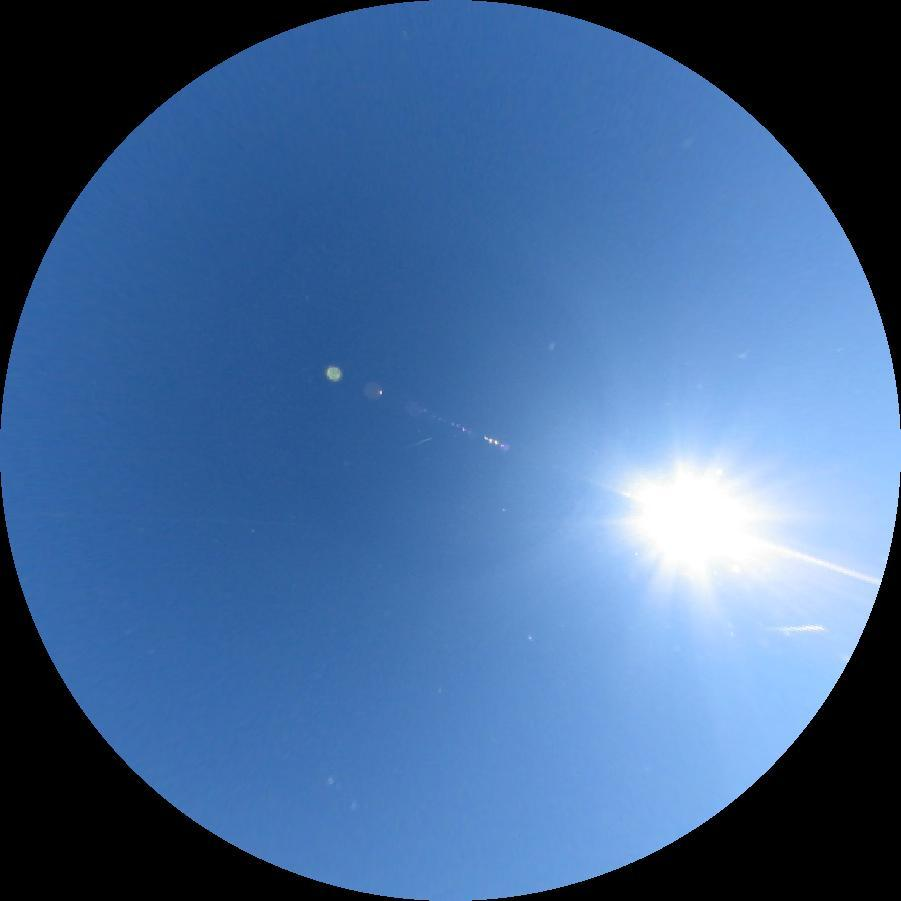contrail young: (758, 621, 827, 637), (409, 436, 435, 448)
parasite: (765, 540, 882, 585)
sun: (610, 434, 779, 607)
